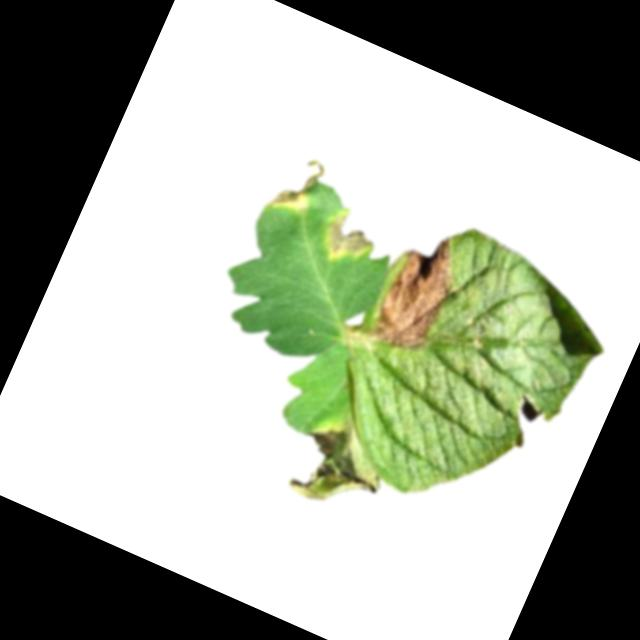Late_blight: (367, 224, 472, 361), (282, 407, 402, 526), (265, 148, 330, 224), (315, 205, 380, 275)
